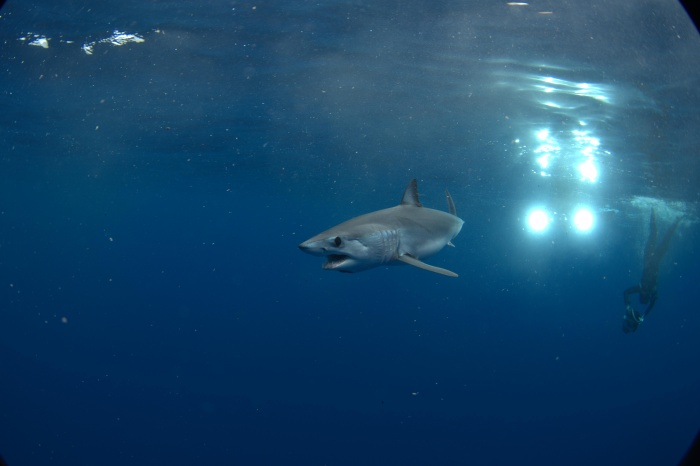Mako: (291, 170, 476, 287)
